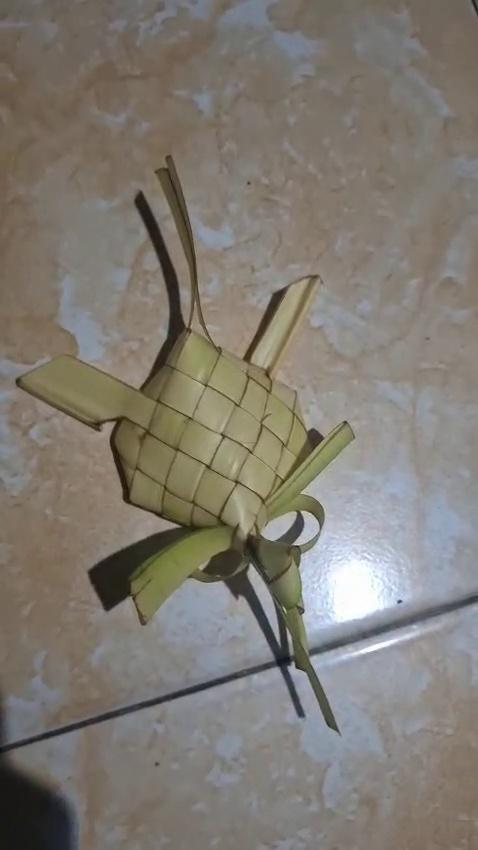Tipat Dampulan: (17, 152, 363, 735)
